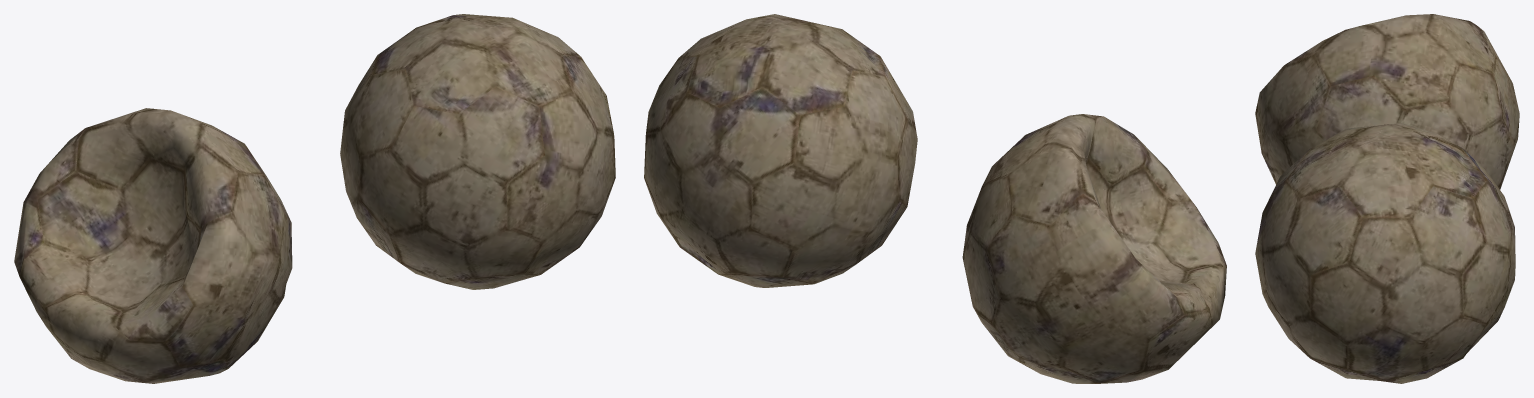
The model's file is football.glb.
3 renders of one model, left to right at view 1: azimuth 30°, elevation 25°; view 2: azimuth 150°, elevation 25°; view 3: azimuth 270°, elevation 25°, orthographic. The views are drawn at different scales.
Visible parts, largest first — view 1: football_inflated, football_deflated; view 2: football_inflated, football_deflated; view 3: football_inflated, football_deflated.
Boxes of the visible parts, x1,y1,x2,y2 form: football_inflated: [340, 14, 615, 289]; football_deflated: [14, 108, 292, 383]; football_inflated: [644, 14, 917, 287]; football_deflated: [962, 114, 1226, 383]; football_inflated: [1255, 123, 1515, 383]; football_deflated: [1255, 14, 1519, 189].
Size of the model in its own units: 0.508 by 0.22 by 0.2222.
1 material, 1 textured.
